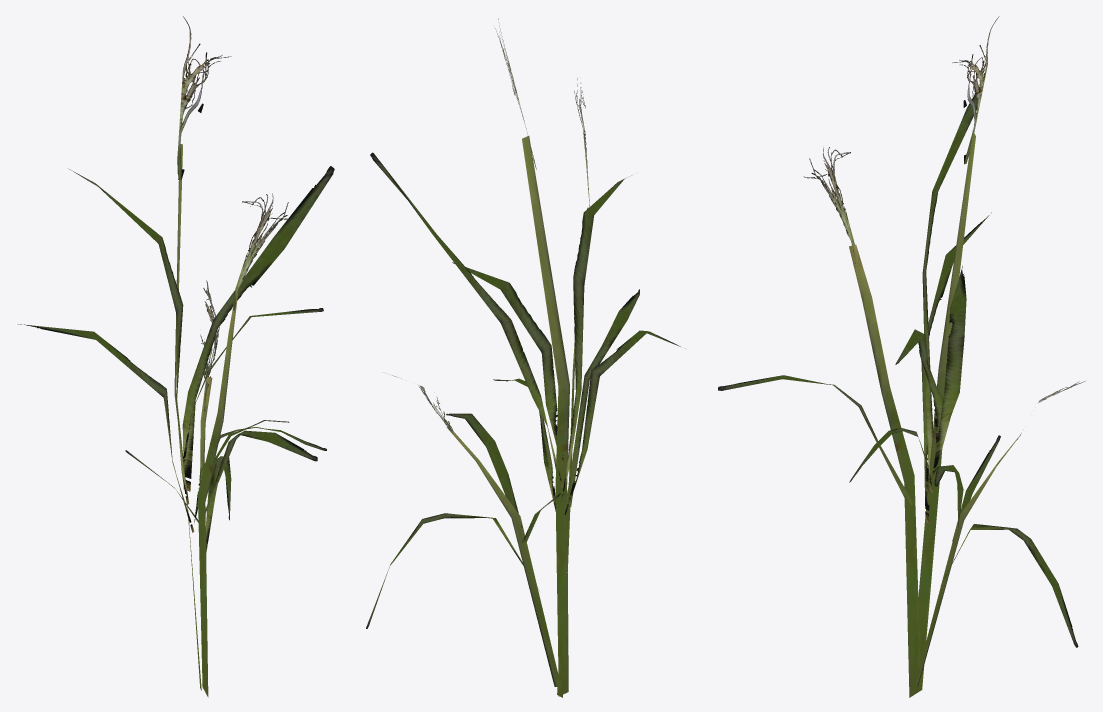
File: capim_3.glb
3 renders of one model, left to right at view 1: azimuth 30°, elevation 25°; view 2: azimuth 150°, elevation 25°; view 3: azimuth 270°, elevation 25°, orthographic. The views are drawn at different scales.
Visible parts, largest first — view 1: capim; view 2: capim; view 3: capim.
Part boxes in pixels (x1=…): capim: x1=18, y1=16, x2=334, y2=697; capim: x1=366, y1=18, x2=680, y2=697; capim: x1=718, y1=16, x2=1085, y2=697.
Bounding box in the file's own units: 0.3382 × 0.684 × 0.333.
1 material, 1 textured.
